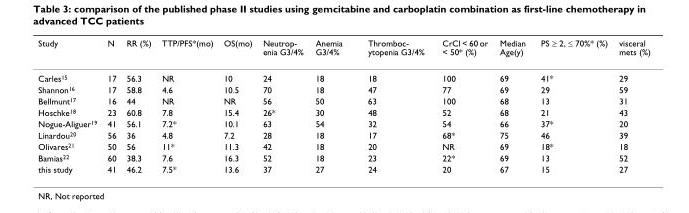table: (37, 36, 649, 173)
table column: (532, 36, 612, 173), (354, 36, 432, 173), (37, 36, 101, 173), (155, 36, 217, 173), (432, 36, 493, 173), (256, 36, 308, 173), (308, 36, 354, 173), (217, 36, 256, 173), (493, 36, 532, 173), (612, 36, 649, 173), (120, 36, 155, 173), (101, 36, 120, 173)
table column header: (37, 36, 649, 64)
table row: (37, 36, 649, 64), (37, 64, 649, 83), (37, 94, 649, 106), (37, 128, 649, 140), (37, 151, 649, 163), (37, 83, 649, 94), (37, 106, 649, 117), (37, 117, 649, 128), (37, 140, 649, 151), (37, 163, 649, 173)
